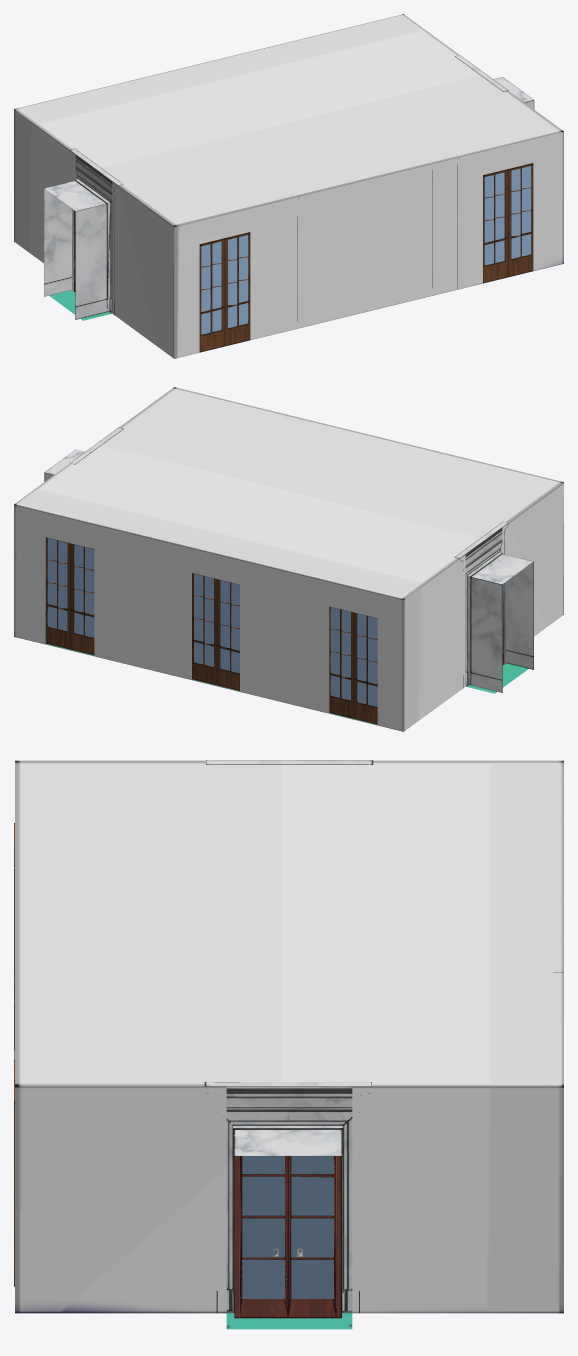
Rendered from Room03.fbx.
The picture shows the model from 3 angles, top to bottom: view 1: azimuth 30°, elevation 25°; view 2: azimuth 150°, elevation 25°; view 3: azimuth 270°, elevation 25°; orthographic projection. The views are drawn at different scales.
Visible parts, largest first — view 1: Cube.001, TuerBogen_Master.001, Plane.004, Plane.005, Cube.009, Cube.008, TuerBogen_Master.002; view 2: Cube.001, TuerBogen_Master.001, Plane, Plane.002, Plane.001, Cube.003, Cube.005, Cube.004, TuerBogen_Master.002; view 3: Cube.001, Tuer_Master.002, TuerBogen_Master.002, TuerBogen_Master.001.
Boxes of the visible parts, bbox=[...] form: Cube.001: bbox=[14, 14, 563, 358]; TuerBogen_Master.001: bbox=[44, 148, 123, 319]; Plane.004: bbox=[484, 166, 531, 265]; Plane.005: bbox=[201, 235, 248, 334]; Cube.009: bbox=[199, 232, 250, 352]; Cube.008: bbox=[483, 163, 533, 283]; TuerBogen_Master.002: bbox=[455, 55, 534, 109]; Cube.001: bbox=[14, 387, 563, 731]; TuerBogen_Master.001: bbox=[454, 521, 533, 692]; Plane: bbox=[47, 538, 94, 637]; Plane.002: bbox=[330, 607, 377, 706]; Plane.001: bbox=[194, 574, 239, 673]; Cube.003: bbox=[45, 537, 94, 654]; Cube.005: bbox=[329, 606, 377, 724]; Cube.004: bbox=[192, 573, 239, 690]; TuerBogen_Master.002: bbox=[44, 427, 123, 481]; Cube.001: bbox=[15, 760, 563, 1329]; Tuer_Master.002: bbox=[234, 1156, 341, 1318]; TuerBogen_Master.002: bbox=[204, 1082, 371, 1313]; TuerBogen_Master.001: bbox=[206, 760, 373, 764].
Size of the model in its own units: 1682 by 465 by 1020.
